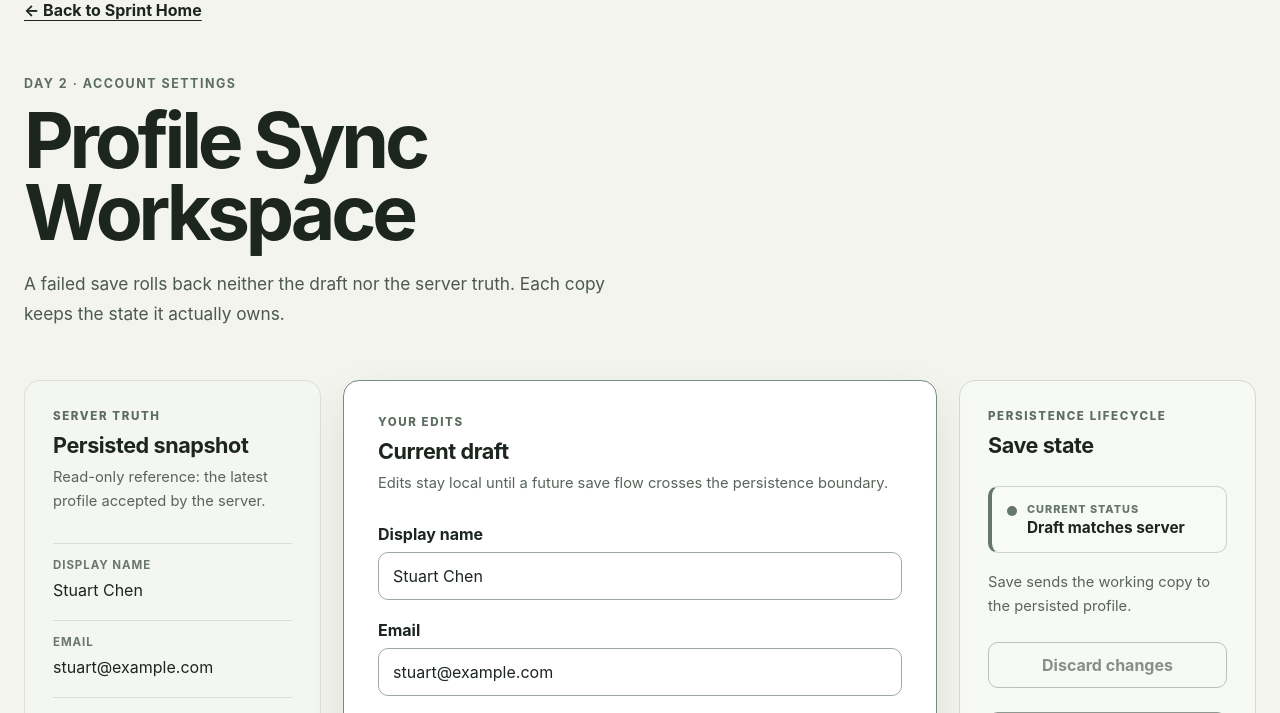
Test case: DayTwoPage profile ownership › restores every draft field from the persisted profile
The width and height of the screenshot is (1280, 713).
Replace the text in the field labelled "Display name" with "Penguin". click: (640,576)
box: [378,552,902,600]
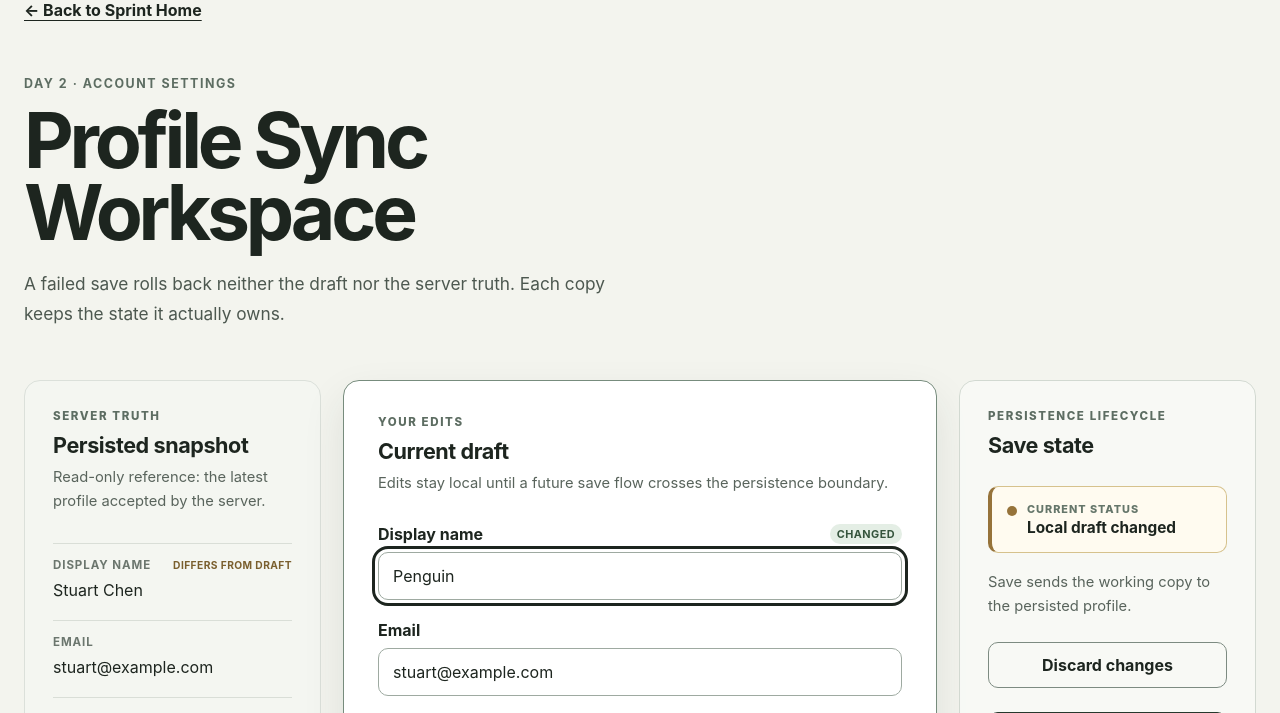
Replace the text in the field labelled "Email" with "penguin@example.com". click: (640,672)
box: [378,648,902,696]
(page scrolled)
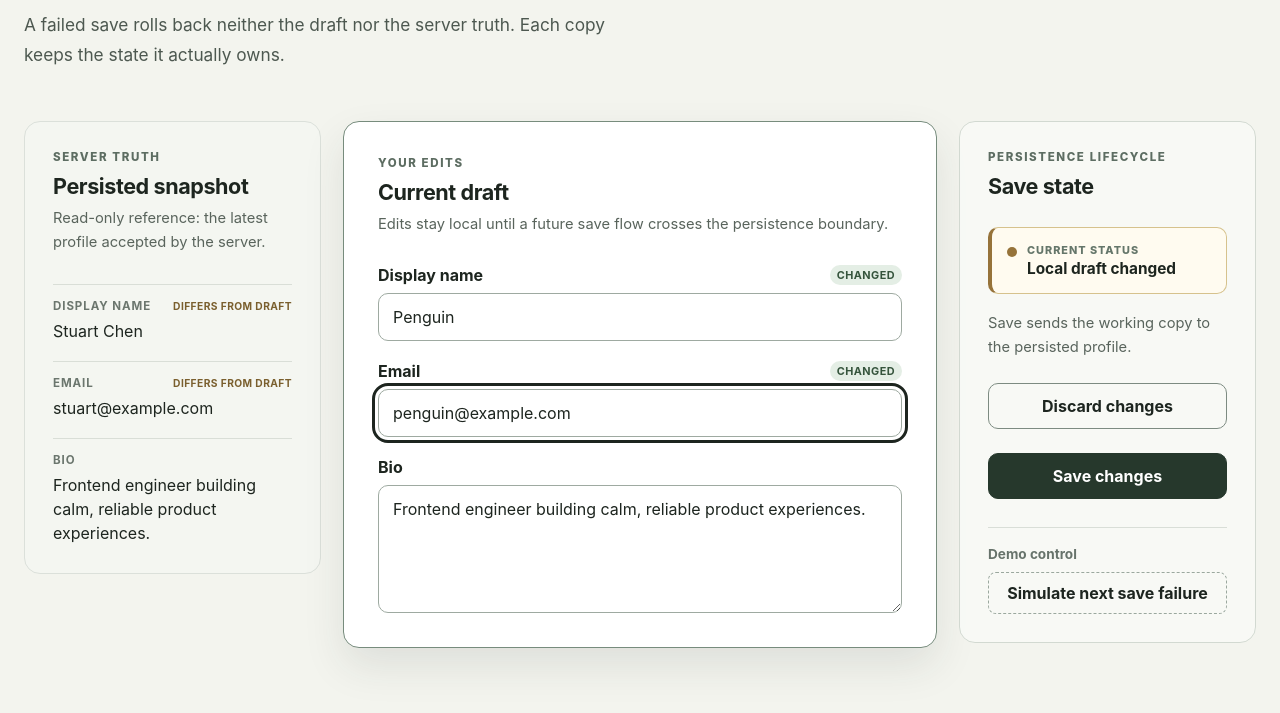
Replace the text in the text box labelled "Bio" with "Building a new local draft.". click: (640,549)
box: [378,485,902,613]
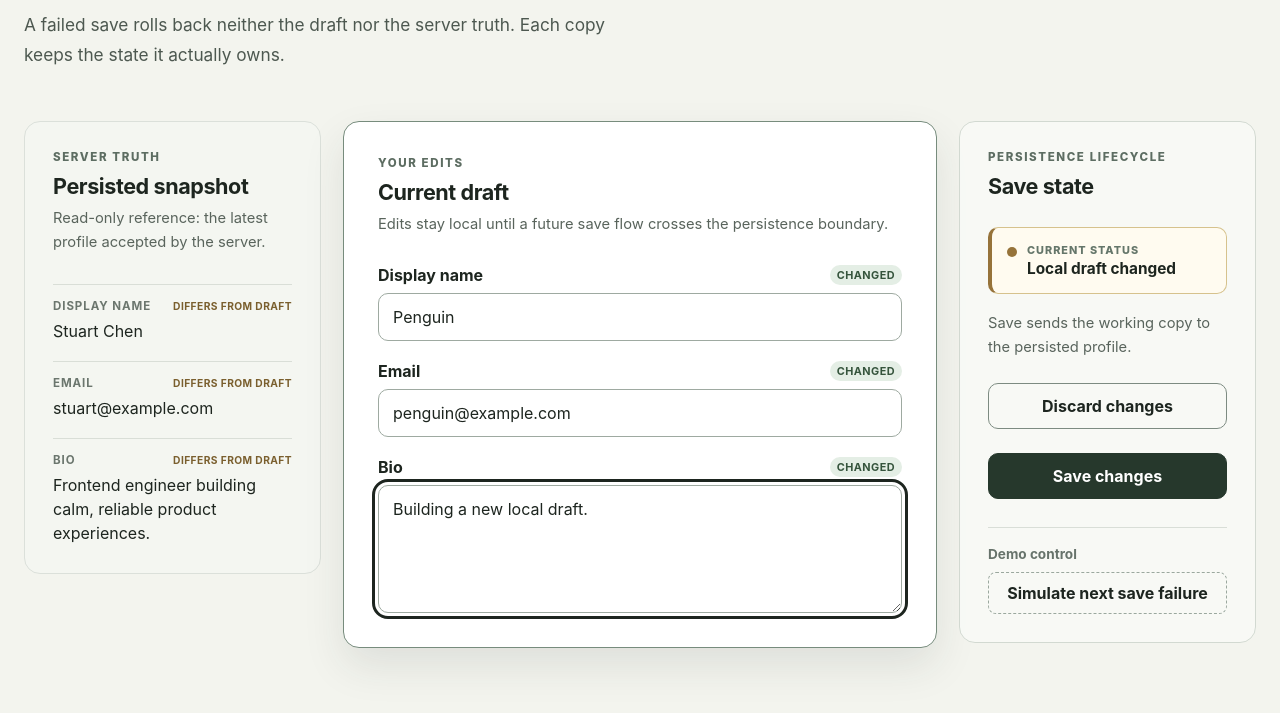
Expected: the text "Stuart Chen" is shown, [53,321,143,341]
Now the message reads "Local draft changed", box [1027,259,1176,278]
Now the button "Discard changes" is enabled
Click the button "Discard changes". click: (1108,406)
box: [988,383,1227,429]
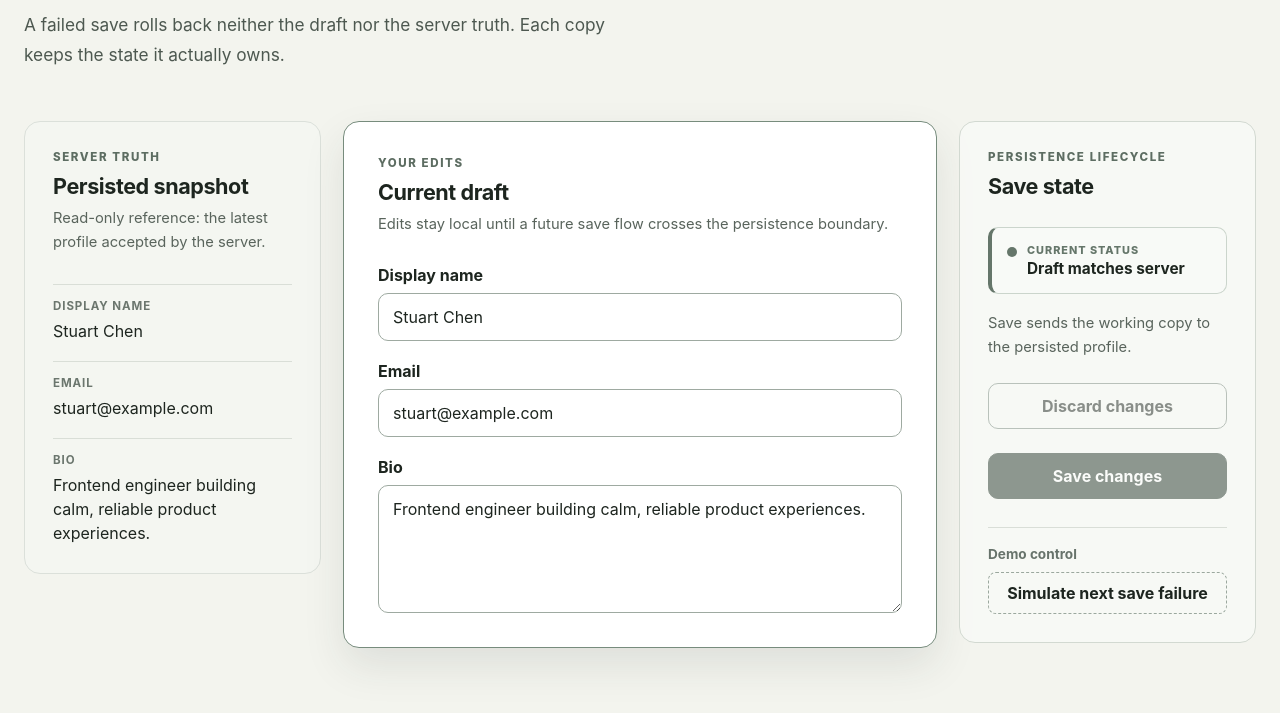
Now the field labelled "Display name" holds "Stuart Chen", box [378,293,902,341]
Now the field labelled "Email" holds "stuart@example.com", box [378,389,902,437]
Now the text box labelled "Bio" holds "Frontend engineer building calm, reliable product experiences.", box [378,485,902,613]
